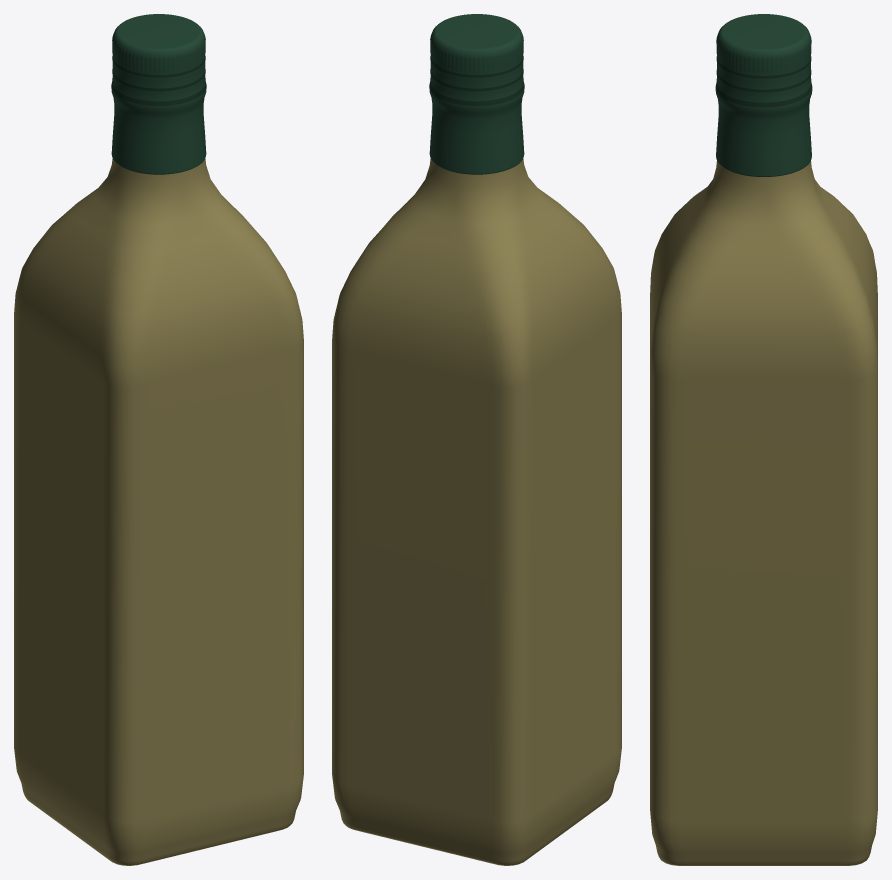
Rendered from marasca-1l.glb.
3 renders of one model, left to right at view 1: azimuth 30°, elevation 25°; view 2: azimuth 150°, elevation 25°; view 3: azimuth 270°, elevation 25°, orthographic.
Parts seen in each view (by area): view 1: Bottle | hollow glass with recessed base, Closure | long green neck capsule; view 2: Bottle | hollow glass with recessed base, Closure | long green neck capsule; view 3: Bottle | hollow glass with recessed base, Closure | long green neck capsule.
Part boxes in pixels (x1,y1,x2,y2): Bottle | hollow glass with recessed base: (14,159,303,865); Closure | long green neck capsule: (111,14,206,174); Bottle | hollow glass with recessed base: (332,159,621,865); Closure | long green neck capsule: (429,14,524,174); Bottle | hollow glass with recessed base: (650,161,877,865); Closure | long green neck capsule: (715,14,812,176).
Bounding box in the file's own units: 0.0788 × 0.3016 × 0.0788.
